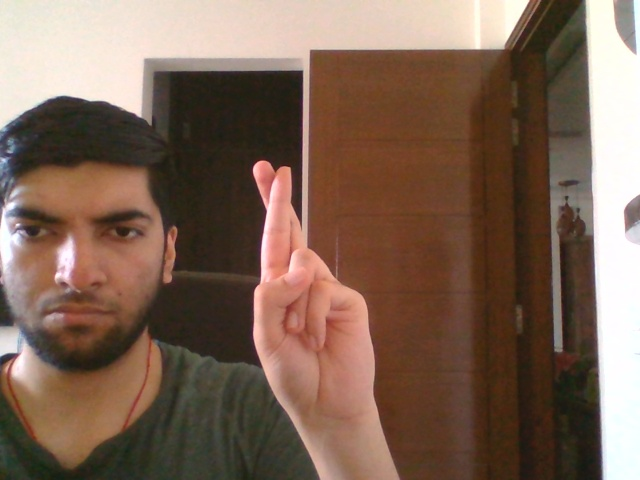LetterR: (249, 155, 377, 419)
